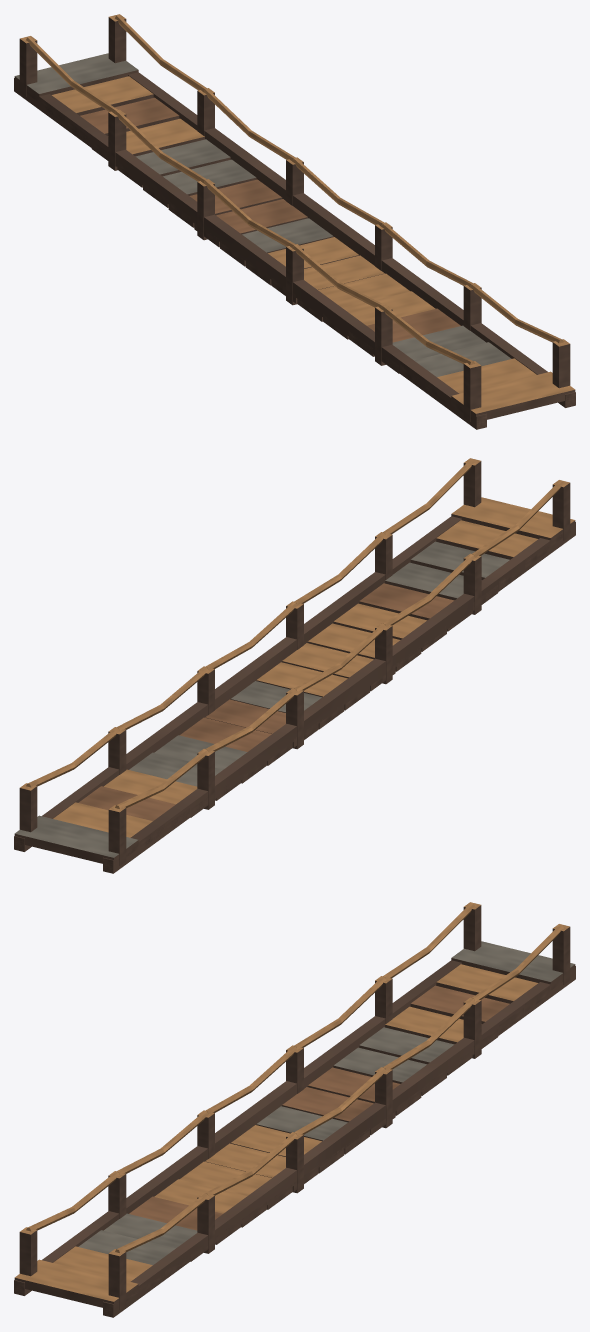
The model's file is bridge_rope.fbx.
3 renders of one model, top to bottom at view 1: azimuth 30°, elevation 25°; view 2: azimuth 150°, elevation 25°; view 3: azimuth 330°, elevation 25°, orthographic.
Parts seen in each view (by area): view 1: bridge_rope; view 2: bridge_rope; view 3: bridge_rope.
Part boxes in pixels (<box>): bridge_rope: <box>14,14,575,429</box>; bridge_rope: <box>14,458,575,873</box>; bridge_rope: <box>14,902,575,1317</box>.
Bounding box in the file's own units: 150 × 100 × 1200.
Materials: 1 (1 with a texture image).
